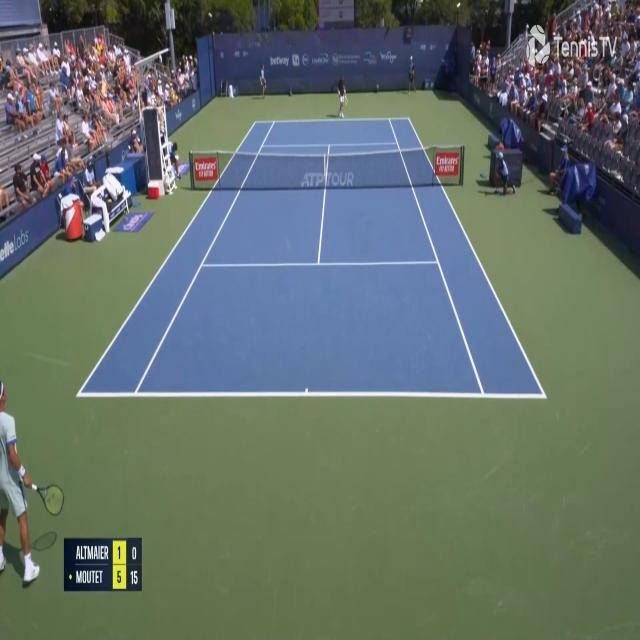tennis-player: (0, 380, 64, 590), (332, 70, 348, 116)
